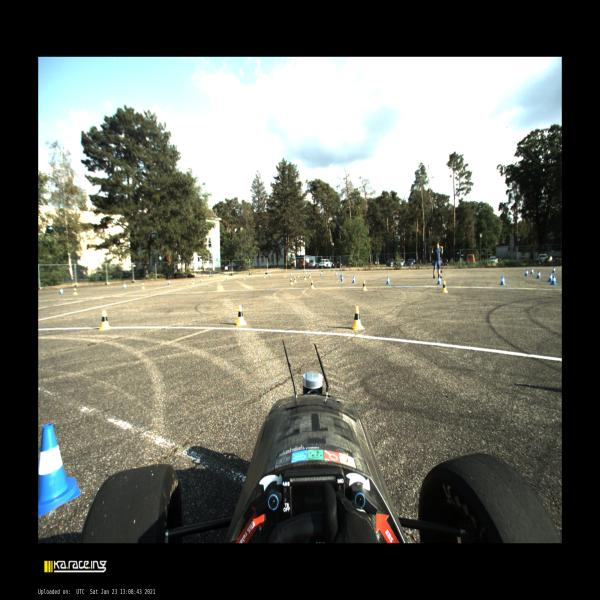blue_cone: (39, 423, 81, 518), (551, 275, 557, 285), (500, 276, 505, 286), (437, 275, 442, 284), (386, 276, 390, 285), (548, 273, 552, 281), (537, 271, 541, 278), (524, 269, 528, 276), (352, 276, 356, 283), (552, 267, 556, 273), (530, 268, 534, 274), (60, 288, 64, 294), (123, 283, 127, 289), (341, 276, 344, 282), (320, 270, 323, 276), (335, 272, 338, 276), (226, 275, 228, 280), (246, 274, 248, 279), (168, 280, 170, 284), (200, 278, 202, 282), (290, 272, 292, 276), (305, 272, 307, 276), (268, 273, 270, 276), (341, 273, 342, 278), (340, 272, 341, 277)
yellow_cone: (351, 306, 365, 330), (98, 310, 112, 331), (236, 305, 246, 325), (442, 280, 448, 293), (362, 280, 367, 291), (310, 280, 315, 289), (73, 288, 78, 295), (141, 283, 145, 289), (290, 278, 293, 284), (304, 275, 307, 280), (221, 276, 224, 281), (294, 276, 296, 283), (309, 273, 311, 278), (192, 279, 194, 284), (284, 272, 286, 277), (298, 273, 300, 277), (264, 274, 266, 278), (244, 274, 245, 280)
